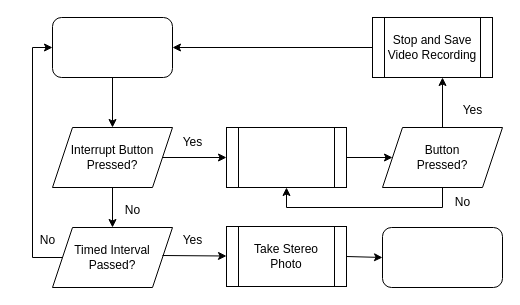
Some shapes in this 520 by 305 pixel diagram are drawn without their labels. Each missing label, with the centre of its shape:
Reset Timer Start: [442,257]
Start Start Timer: [112,47]
Stereo Video Recording: [286,157]
